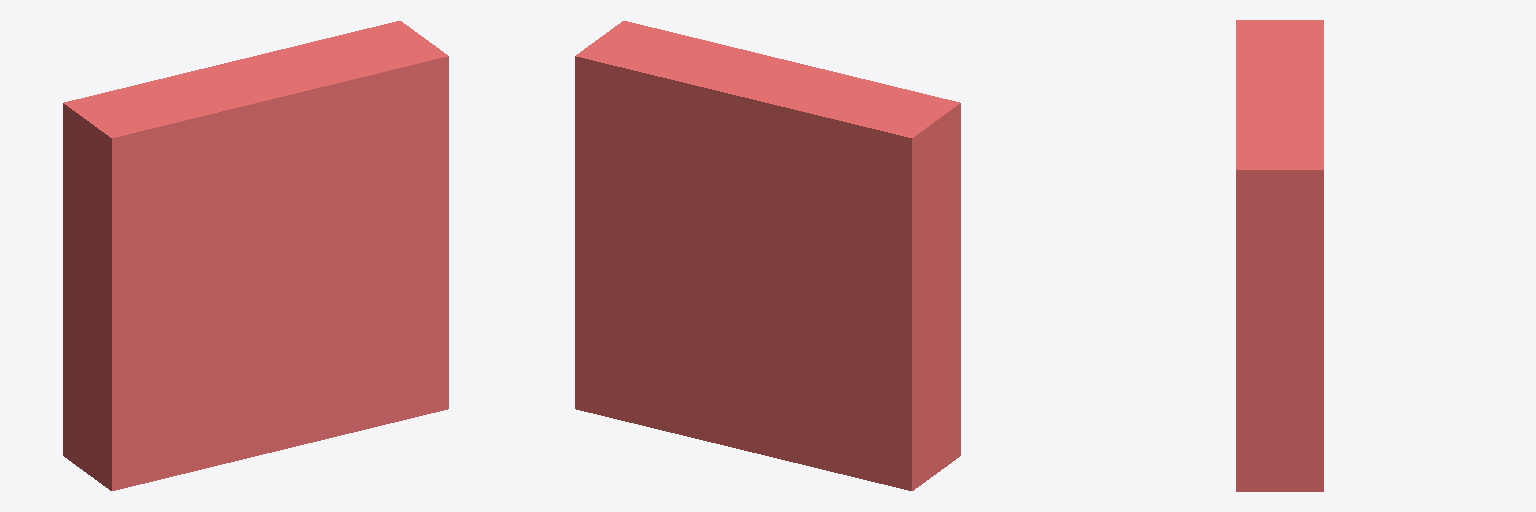
URDF robot description (cube_robot):
<?xml version="1.0"?>
<robot name="cube_robot">
  <link name="base_link">
    <inertial>
      <origin xyz="0 0 0" rpy="0 0 0"/>
      <mass value="1.0"/>
      <inertia ixx="0.00004167" ixy="0" ixz="0" iyy="0.00004167" iyz="0" izz="0.00004167"/>
    </inertial>
    <visual>
      <origin xyz="0 0 0" rpy="0 0 0"/>
      <geometry>
        <box size="0.4 0.1 0.4"/>
      </geometry>
      <material name="white">
        <color rgba="1 0.5 0.5 1"/>
      </material>
    </visual>
    <!-- <collision>
      <origin xyz="0 0 0" rpy="0 0 0"/>
      <geometry>
        <box size="0.05 0.05 0.05"/>
      </geometry>
    </collision> -->
  </link>
</robot>

--- Facts derived from the render (not from the file) ---
The picture shows the robot from 3 angles, left to right: view 1: azimuth 30°, elevation 25°; view 2: azimuth 150°, elevation 25°; view 3: azimuth 270°, elevation 25°; orthographic projection.
Robot: cube_robot — 1 links, 0 joints (none); root link base_link; default pose: all joints at 0.
Links seen in each view (by area): view 1: base_link; view 2: base_link; view 3: base_link.
Link boxes in pixels (x1,y1,x2,y2): base_link: [63, 21, 448, 490]; base_link: [575, 21, 960, 490]; base_link: [1236, 20, 1323, 491].
Size in the robot's own frame: 0.4 by 0.1 by 0.4 metres.
Geometry: primitives only (box / cylinder / sphere), no mesh files.